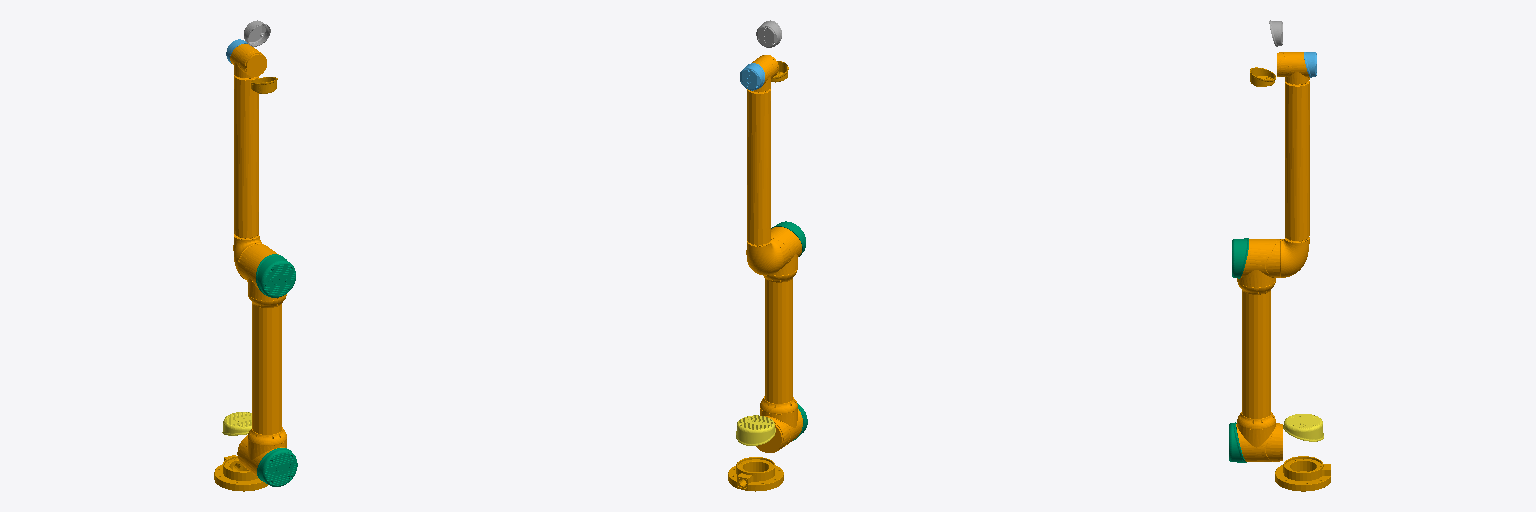
URDF robot description (aubo_i5L_robot):
<?xml version="1.0"?>
<robot name="aubo_i5L_robot">

  <link name="base_link">
    <inertial>
      <origin rpy="0 0 0" xyz="-5.5723E-10 -0.00053181 0.016438"/>
      <mass value="0.5499"/>
      <inertia ixx="0.0011098" ixy="1.3184E-11" ixz="3.3523E-12" iyy="0.0011174" iyz="-1.2673E-05" izz="0.002061"/>
    </inertial>
    <visual>
      <origin rpy="0 0 0" xyz="0 0 0"/>
      <geometry>
        <mesh filename="package://aubo_description/meshes/aubo_i5l/base_link.STL"/>
      </geometry>
     <material name="black">
        <color rgba="0.25098 0.25098 0.25098"/>
      </material>
    </visual>
    <collision>
      <origin rpy="0 0 0" xyz="0 0 0"/>
      <geometry>
        <mesh filename="package://aubo_description/meshes/aubo_i5l/base_link.STL"/>
      </geometry>
    </collision>
  </link>
  <link name="shoulder_Link">
    <inertial>
      <origin rpy="0 0 0" xyz="1.8797E-06 0.0063705 -0.014752"/>
      <mass value="1.4505"/>
      <inertia ixx="0.0032429" ixy="5.3132E-08" ixz="-1.3896E-08" iyy="0.0031222" iyz="-0.00024889" izz="0.0027718"/>
    </inertial>
    <visual>
      <origin rpy="0 0 0" xyz="0 0 0"/>
      <geometry>
        <mesh filename="package://aubo_description/meshes/aubo_i5l/shoulder_Link.STL"/>
      </geometry>
       <material name="orange">
        <color rgba="1 0.65098 0 1"/>
      </material>
    </visual>
    <collision>
      <origin rpy="0 0 0" xyz="0 0 0"/>
      <geometry>
        <mesh filename="package://aubo_description/meshes/aubo_i5l/shoulder_Link.STL"/>
      </geometry>
    </collision>
  </link>
  <joint name="shoulder_joint" type="revolute">
    <origin rpy="0 0 3.1416" xyz="0 0 0.122"/>
    <parent link="base_link"/>
    <child link="shoulder_Link"/>
    <axis xyz="0 0 1"/>
    <limit effort="0" lower="-3.05" upper="3.05" velocity="0"/>
  </joint>
  <link name="upperArm_Link">
    <inertial>
      <origin rpy="0 0 0" xyz="0.304 1.1022E-06 0.0069544"/>
      <mass value="3.552"/>
      <inertia ixx="0.0075968" ixy="-3.9847E-07" ixz="1.2349E-09" iyy="0.28172" iyz="3.2578E-07" izz="0.28066"/>
    </inertial>
    <visual>
      <origin rpy="0 0 0" xyz="0 0 0"/>
      <geometry>
        <mesh filename="package://aubo_description/meshes/aubo_i5l/upperArm_Link.STL"/>
      </geometry>
       <material name="orange">
        <color rgba="1 0.65098 0 1"/>
      </material>
    </visual>
    <collision>
      <origin rpy="0 0 0" xyz="0 0 0"/>
      <geometry>
        <mesh filename="package://aubo_description/meshes/aubo_i5l/upperArm_Link.STL"/>
      </geometry>
    </collision>
  </link>
  <joint name="upperArm_joint" type="revolute">
    <origin rpy="-1.5708 -1.5708 0" xyz="0 0.1215 0"/>
    <parent link="shoulder_Link"/>
    <child link="upperArm_Link"/>
    <axis xyz="0 0 1"/>
    <limit effort="0" lower="-3.05" upper="3.05" velocity="0"/>
  </joint>
  <link name="foreArm_Link">
    <inertial>
      <origin rpy="0 0 0" xyz="0.47998 -3.2016E-06 0.096041"/>
      <mass value="0.90769"/>
      <inertia ixx="0.0010698" ixy="-3.7747E-07" ixz="0.00094801" iyy="0.034604" iyz="2.1581E-07" izz="0.034439"/>
    </inertial>
    <visual>
      <origin rpy="0 0 0" xyz="0 0 0"/>
      <geometry>
        <mesh filename="package://aubo_description/meshes/aubo_i5l/foreArm_Link.STL"/>
      </geometry>
        <material name="orange">
        <color rgba="1 0.65098 0 1"/>
      </material>
    </visual>
    <collision>
      <origin rpy="0 0 0" xyz="0 0 0"/>
      <geometry>
        <mesh filename="package://aubo_description/meshes/aubo_i5l/foreArm_Link.STL"/>
      </geometry>
    </collision>
  </link>
  <joint name="foreArm_joint" type="revolute">
    <origin rpy="-3.1416 0 0" xyz="0.608 0 0"/>
    <parent link="upperArm_Link"/>
    <child link="foreArm_Link"/>
    <axis xyz="0 0 1"/>
    <limit effort="0" lower="-3.05" upper="3.05" velocity="0"/>
  </joint>
  <link name="wrist1_Link">
    <inertial>
      <origin rpy="0 0 0" xyz="4.9891E-07 0.013119 -0.0045696"/>
      <mass value="0.44686"/>
      <inertia ixx="0.00048851" ixy="-3.823E-09" ixz="8.3651E-09" iyy="0.00036127" iyz="-3.9646E-05" izz="0.00046417"/>
    </inertial>
    <visual>
      <origin rpy="0 0 0" xyz="0 0 0"/>
      <geometry>
        <mesh filename="package://aubo_description/meshes/aubo_i5l/wrist1_Link.STL"/>
      </geometry>
     <material name="orange">
        <color rgba="1 0.65098 0 1"/>
      </material>
    </visual>
    <collision>
      <origin rpy="0 0 0" xyz="0 0 0"/>
      <geometry>
        <mesh filename="package://aubo_description/meshes/aubo_i5l/wrist1_Link.STL"/>
      </geometry>
    </collision>
  </link>
  <joint name="wrist1_joint" type="revolute">
    <origin rpy="3.1416 -1.1102E-16 1.5708" xyz="0.6395 0 0"/>
    <parent link="foreArm_Link"/>
    <child link="wrist1_Link"/>
    <axis xyz="0 0 1"/>
    <limit effort="0" lower="-3.05" upper="3.05" velocity="0"/>
  </joint>
  <link name="wrist2_Link">
    <inertial>
      <origin rpy="0 0 0" xyz="-4.9891E-07 -0.013119 -0.0045696"/>
      <mass value="0.44686"/>
      <inertia ixx="0.00048851" ixy="-3.823E-09" ixz="-8.3651E-09" iyy="0.00036127" iyz="3.9646E-05" izz="0.00046417"/>
    </inertial>
    <visual>
      <origin rpy="0 0 0" xyz="0 0 0"/>
      <geometry>
        <mesh filename="package://aubo_description/meshes/aubo_i5l/wrist2_Link.STL"/>
      </geometry>
      <material name="orange">
        <color rgba="1 0.65098 0 1"/>
      </material>
    </visual>
    <collision>
      <origin rpy="0 0 0" xyz="0 0 0"/>
      <geometry>
        <mesh filename="package://aubo_description/meshes/aubo_i5l/wrist2_Link.STL"/>
      </geometry>
    </collision>
  </link>
  <joint name="wrist2_joint" type="revolute">
    <origin rpy="-1.5708 0 -1.6653E-16" xyz="0 0.1025 0"/>
    <parent link="wrist1_Link"/>
    <child link="wrist2_Link"/>
    <axis xyz="0 0 1"/>
    <limit effort="0" lower="-3.05" upper="3.05" velocity="0"/>
  </joint>
  <link name="wrist3_Link">
    <inertial>
      <origin rpy="0 0 0" xyz="2.2512E-08 0.00029937 -0.018058"/>
      <mass value="0.14035"/>
      <inertia ixx="6.1524E-05" ixy="-1.0358E-10" ixz="3.0206E-11" iyy="5.9833E-05" iyz="4.033E-07" izz="9.5362E-05"/>
    </inertial>
    <visual>
      <origin rpy="0 0 0" xyz="0 0 0"/>
      <geometry>
        <mesh filename="package://aubo_description/meshes/aubo_i5l/wrist3_Link.STL"/>
      </geometry>
      <material name="black">
        <color rgba="0.25098 0.25098 0.25098"/>
      </material>
    </visual>
    <collision>
      <origin rpy="0 0 0" xyz="0 0 0"/>
      <geometry>
        <mesh filename="package://aubo_description/meshes/aubo_i5l/wrist3_Link.STL"/>
      </geometry>
    </collision>
  </link>
  <joint name="wrist3_joint" type="revolute">
    <origin rpy="1.5708 -1.6653E-16 0" xyz="0 -0.094 0"/>
    <parent link="wrist2_Link"/>
    <child link="wrist3_Link"/>
    <axis xyz="0 0 1"/>
    <limit effort="0" lower="-3.05" upper="3.05" velocity="0"/>
  </joint>
  <link name="w2_Link">
    <inertial>
      <origin rpy="0 0 0" xyz="-3.646E-06 0.047634 0.0038418"/>
      <mass value="0.021594"/>
      <inertia ixx="1.4206E-05" ixy="3.911E-10" ixz="2.2226E-09" iyy="2.3397E-05" iyz="1.7259E-06" izz="1.4321E-05"/>
    </inertial>
    <visual>
      <origin rpy="0 0 0" xyz="0 0 0"/>
      <geometry>
        <mesh filename="package://aubo_description/meshes/aubo_i5l/w2_Link.STL"/>
      </geometry>
      <material name="black">
        <color rgba="0.25098 0.25098 0.25098"/>
      </material>
    </visual>
    <collision>
      <origin rpy="0 0 0" xyz="0 0 0"/>
      <geometry>
        <mesh filename="package://aubo_description/meshes/aubo_i5l/w2_Link.STL"/>
      </geometry>
    </collision>
  </link>
  <joint name="w2_joint" type="fixed">
    <origin rpy="0 0 0" xyz="0 0 0"/>
    <parent link="wrist2_Link"/>
    <child link="w2_Link"/>
    <axis xyz="0 0 0"/>
  </joint>
  <link name="w1_Link">
    <inertial>
      <origin rpy="0 0 0" xyz="3.646E-06 -0.047634 0.0038418"/>
      <mass value="0.021594"/>
      <inertia ixx="1.4206E-05" ixy="3.911E-10" ixz="-2.2226E-09" iyy="2.3397E-05" iyz="-1.7259E-06" izz="1.4321E-05"/>
    </inertial>
    <visual>
      <origin rpy="0 0 0" xyz="0 0 0"/>
      <geometry>
        <mesh filename="package://aubo_description/meshes/aubo_i5l/w1_Link.STL"/>
      </geometry>
      <material name="black">
        <color rgba="0.25098 0.25098 0.25098"/>
      </material>
    </visual>
    <collision>
      <origin rpy="0 0 0" xyz="0 0 0"/>
      <geometry>
        <mesh filename="package://aubo_description/meshes/aubo_i5l/w1_Link.STL"/>
      </geometry>
    </collision>
  </link>
  <joint name="w1_joint" type="fixed">
    <origin rpy="0 0 0" xyz="0 0 0"/>
    <parent link="wrist1_Link"/>
    <child link="w1_Link"/>
    <axis xyz="0 0 0"/>
  </joint>
  <link name="u_Link">
    <inertial>
      <origin rpy="0 0 0" xyz="0.64334 -3.6405E-06 0.15013"/>
      <mass value="0.021594"/>
      <inertia ixx="1.4321E-05" ixy="2.224E-09" ixz="1.7259E-06" iyy="1.4206E-05" iyz="3.9014E-10" izz="2.3397E-05"/>
    </inertial>
    <visual>
      <origin rpy="0 0 0" xyz="0 0 0"/>
      <geometry>
        <mesh filename="package://aubo_description/meshes/aubo_i5l/u_Link.STL"/>
      </geometry>
      <material name="black">
        <color rgba="0.25098 0.25098 0.25098"/>
      </material>
    </visual>
    <collision>
      <origin rpy="0 0 0" xyz="0 0 0"/>
      <geometry>
        <mesh filename="package://aubo_description/meshes/aubo_i5l/u_Link.STL"/>
      </geometry>
    </collision>
  </link>
  <joint name="u_joint" type="fixed">
    <origin rpy="3.2724E-33 0 0" xyz="0 0 0"/>
    <parent link="foreArm_Link"/>
    <child link="u_Link"/>
    <axis xyz="0 0 0"/>
  </joint>
  <link name="f1_Link">
    <inertial>
      <origin rpy="0 0 0" xyz="0.30397 -0.00049907 0.08414"/>
      <mass value="0.22341"/>
      <inertia ixx="0.00030759" ixy="3.3453E-05" ixz="0.00029518" iyy="0.021935" iyz="-3.0561E-06" izz="0.022161"/>
    </inertial>
    <visual>
      <origin rpy="0 0 0" xyz="0 0 0"/>
      <geometry>
        <mesh filename="package://aubo_description/meshes/aubo_i5l/f1_Link.STL"/>
      </geometry>
      <material name="black">
        <color rgba="0.25098 0.25098 0.25098"/>
      </material>
    </visual>
    <collision>
      <origin rpy="0 0 0" xyz="0 0 0"/>
      <geometry>
        <mesh filename="package://aubo_description/meshes/aubo_i5l/f1_Link.STL"/>
      </geometry>
    </collision>
  </link>
  <joint name="f1_joint" type="fixed">
    <origin rpy="0 0 0" xyz="0 0 0"/>
    <parent link="upperArm_Link"/>
    <child link="f1_Link"/>
    <axis xyz="0 0 0"/>
  </joint>
  <link name="s_Link">
    <inertial>
      <origin rpy="0 0 0" xyz="6.0938E-06 -0.0072488 0.058805"/>
      <mass value="0.11171"/>
      <inertia ixx="0.00014572" ixy="-3.291E-09" ixz="-8.2879E-09" iyy="0.00015181" iyz="-1.8811E-05" izz="0.00026098"/>
    </inertial>
    <visual>
      <origin rpy="0 0 0" xyz="0 0 0"/>
      <geometry>
        <mesh filename="package://aubo_description/meshes/aubo_i5l/s_Link.STL"/>
      </geometry>
      <material name="black">
        <color rgba="0.25098 0.25098 0.25098"/>
      </material>
    </visual>
    <collision>
      <origin rpy="0 0 0" xyz="0 0 0"/>
      <geometry>
        <mesh filename="package://aubo_description/meshes/aubo_i5l/s_Link.STL"/>
      </geometry>
    </collision>
  </link>
  <joint name="s_joint" type="fixed">
    <origin rpy="0 0 0" xyz="0 0 0"/>
    <parent link="shoulder_Link"/>
    <child link="s_Link"/>
    <axis xyz="0 0 0"/>
  </joint>
  <link name="world" />

  <joint name="world_joint" type="fixed">
    <parent link="world" />
    <child link = "base_link" />
    <origin xyz="0.0 0.0 0.0" rpy="0.0 0.0 0.0" />
  </joint>

</robot>

--- What the picture shows (computed from the rendered views, not written in the file) ---
The picture shows the robot from 3 angles, left to right: view 1: azimuth 30°, elevation 25°; view 2: azimuth 150°, elevation 25°; view 3: azimuth 270°, elevation 25°; orthographic projection.
Robot: aubo_i5L_robot — 13 links, 12 joints (6 revolute, 6 fixed); root link world; default pose: all joints at 0.
Visible links, largest first — view 1: upperArm_Link, foreArm_Link, f1_Link, base_link, s_Link, w2_Link; view 2: upperArm_Link, foreArm_Link, base_link, s_Link, w2_Link, u_Link; view 3: upperArm_Link, foreArm_Link, base_link, f1_Link, s_Link.
Link boxes in pixels (box(x1,y1,x2,y2)): upperArm_Link: box(237, 244, 286, 476); foreArm_Link: box(230, 44, 267, 278); f1_Link: box(256, 254, 297, 486); base_link: box(214, 455, 267, 491); s_Link: box(222, 412, 251, 435); w2_Link: box(244, 20, 270, 46); upperArm_Link: box(756, 227, 802, 452); foreArm_Link: box(746, 55, 783, 275); base_link: box(728, 457, 783, 491); s_Link: box(736, 415, 775, 445); w2_Link: box(756, 20, 781, 47); u_Link: box(740, 63, 764, 90); upperArm_Link: box(1236, 239, 1282, 461); foreArm_Link: box(1277, 52, 1309, 277); base_link: box(1275, 456, 1330, 491); f1_Link: box(1229, 238, 1248, 462); s_Link: box(1283, 414, 1323, 441).
Size in the robot's own frame: 0.1696 by 0.3062 by 1.51 metres.
8 mesh visuals loaded from 12 distinct referenced files (8 binary STL); not drawn: 4 (reference not matched to a file when rendering).